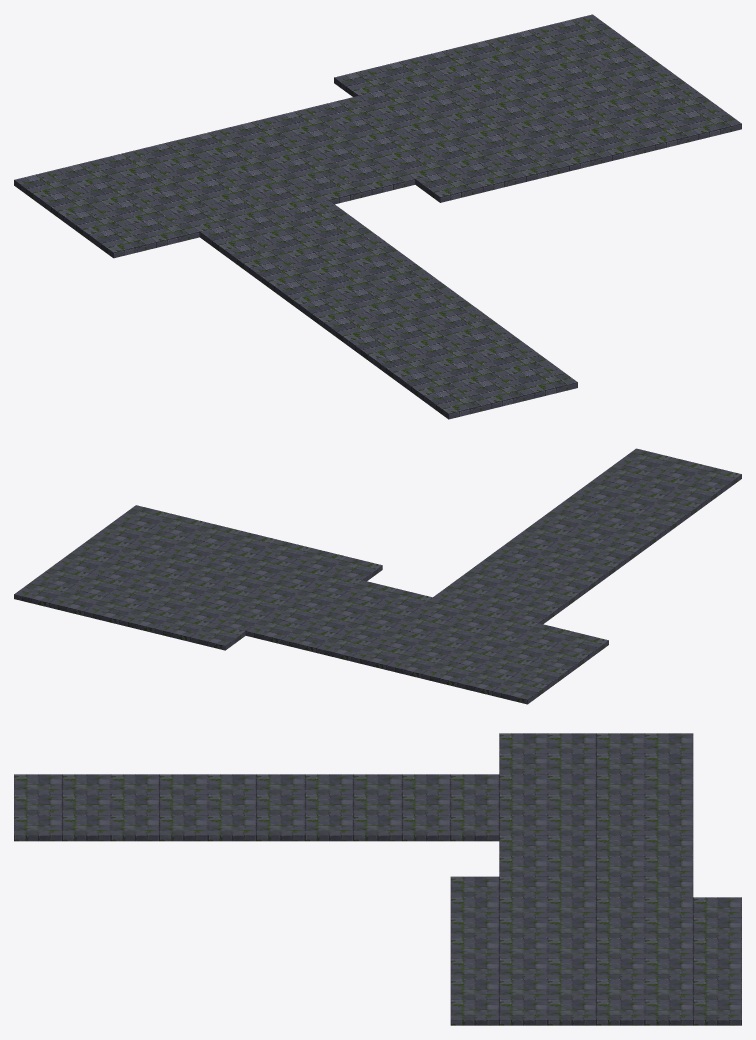
Rendered from Ground.gltf.
The picture shows the model from 3 angles, top to bottom: view 1: azimuth 30°, elevation 25°; view 2: azimuth 150°, elevation 25°; view 3: azimuth 270°, elevation 25°; orthographic projection. The views are drawn at different scales.
Parts seen in each view (by area): view 1: P_MOD_Floor_01_E_straight_med (14); view 2: P_MOD_Floor_01_E_straight_med (14); view 3: P_MOD_Floor_01_E_straight_med (14).
Boxes of the visible parts, x1,y1,x2,y2 form: P_MOD_Floor_01_E_straight_med (14): (14,14,741,419); P_MOD_Floor_01_E_straight_med (14): (14,448,741,704); P_MOD_Floor_01_E_straight_med (14): (14,733,741,1025).
Bounding box in the file's own units: 56 × 0.5 × 60.
Materials: 1 (1 with a texture image).
